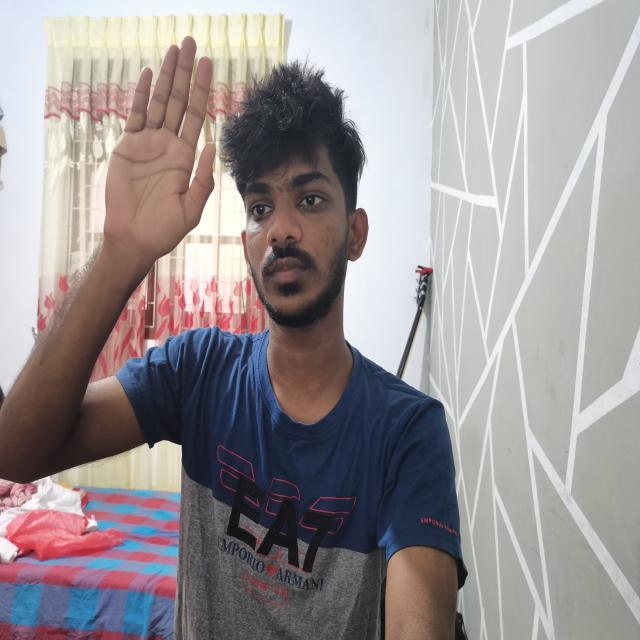Hello: (97, 36, 226, 262)
